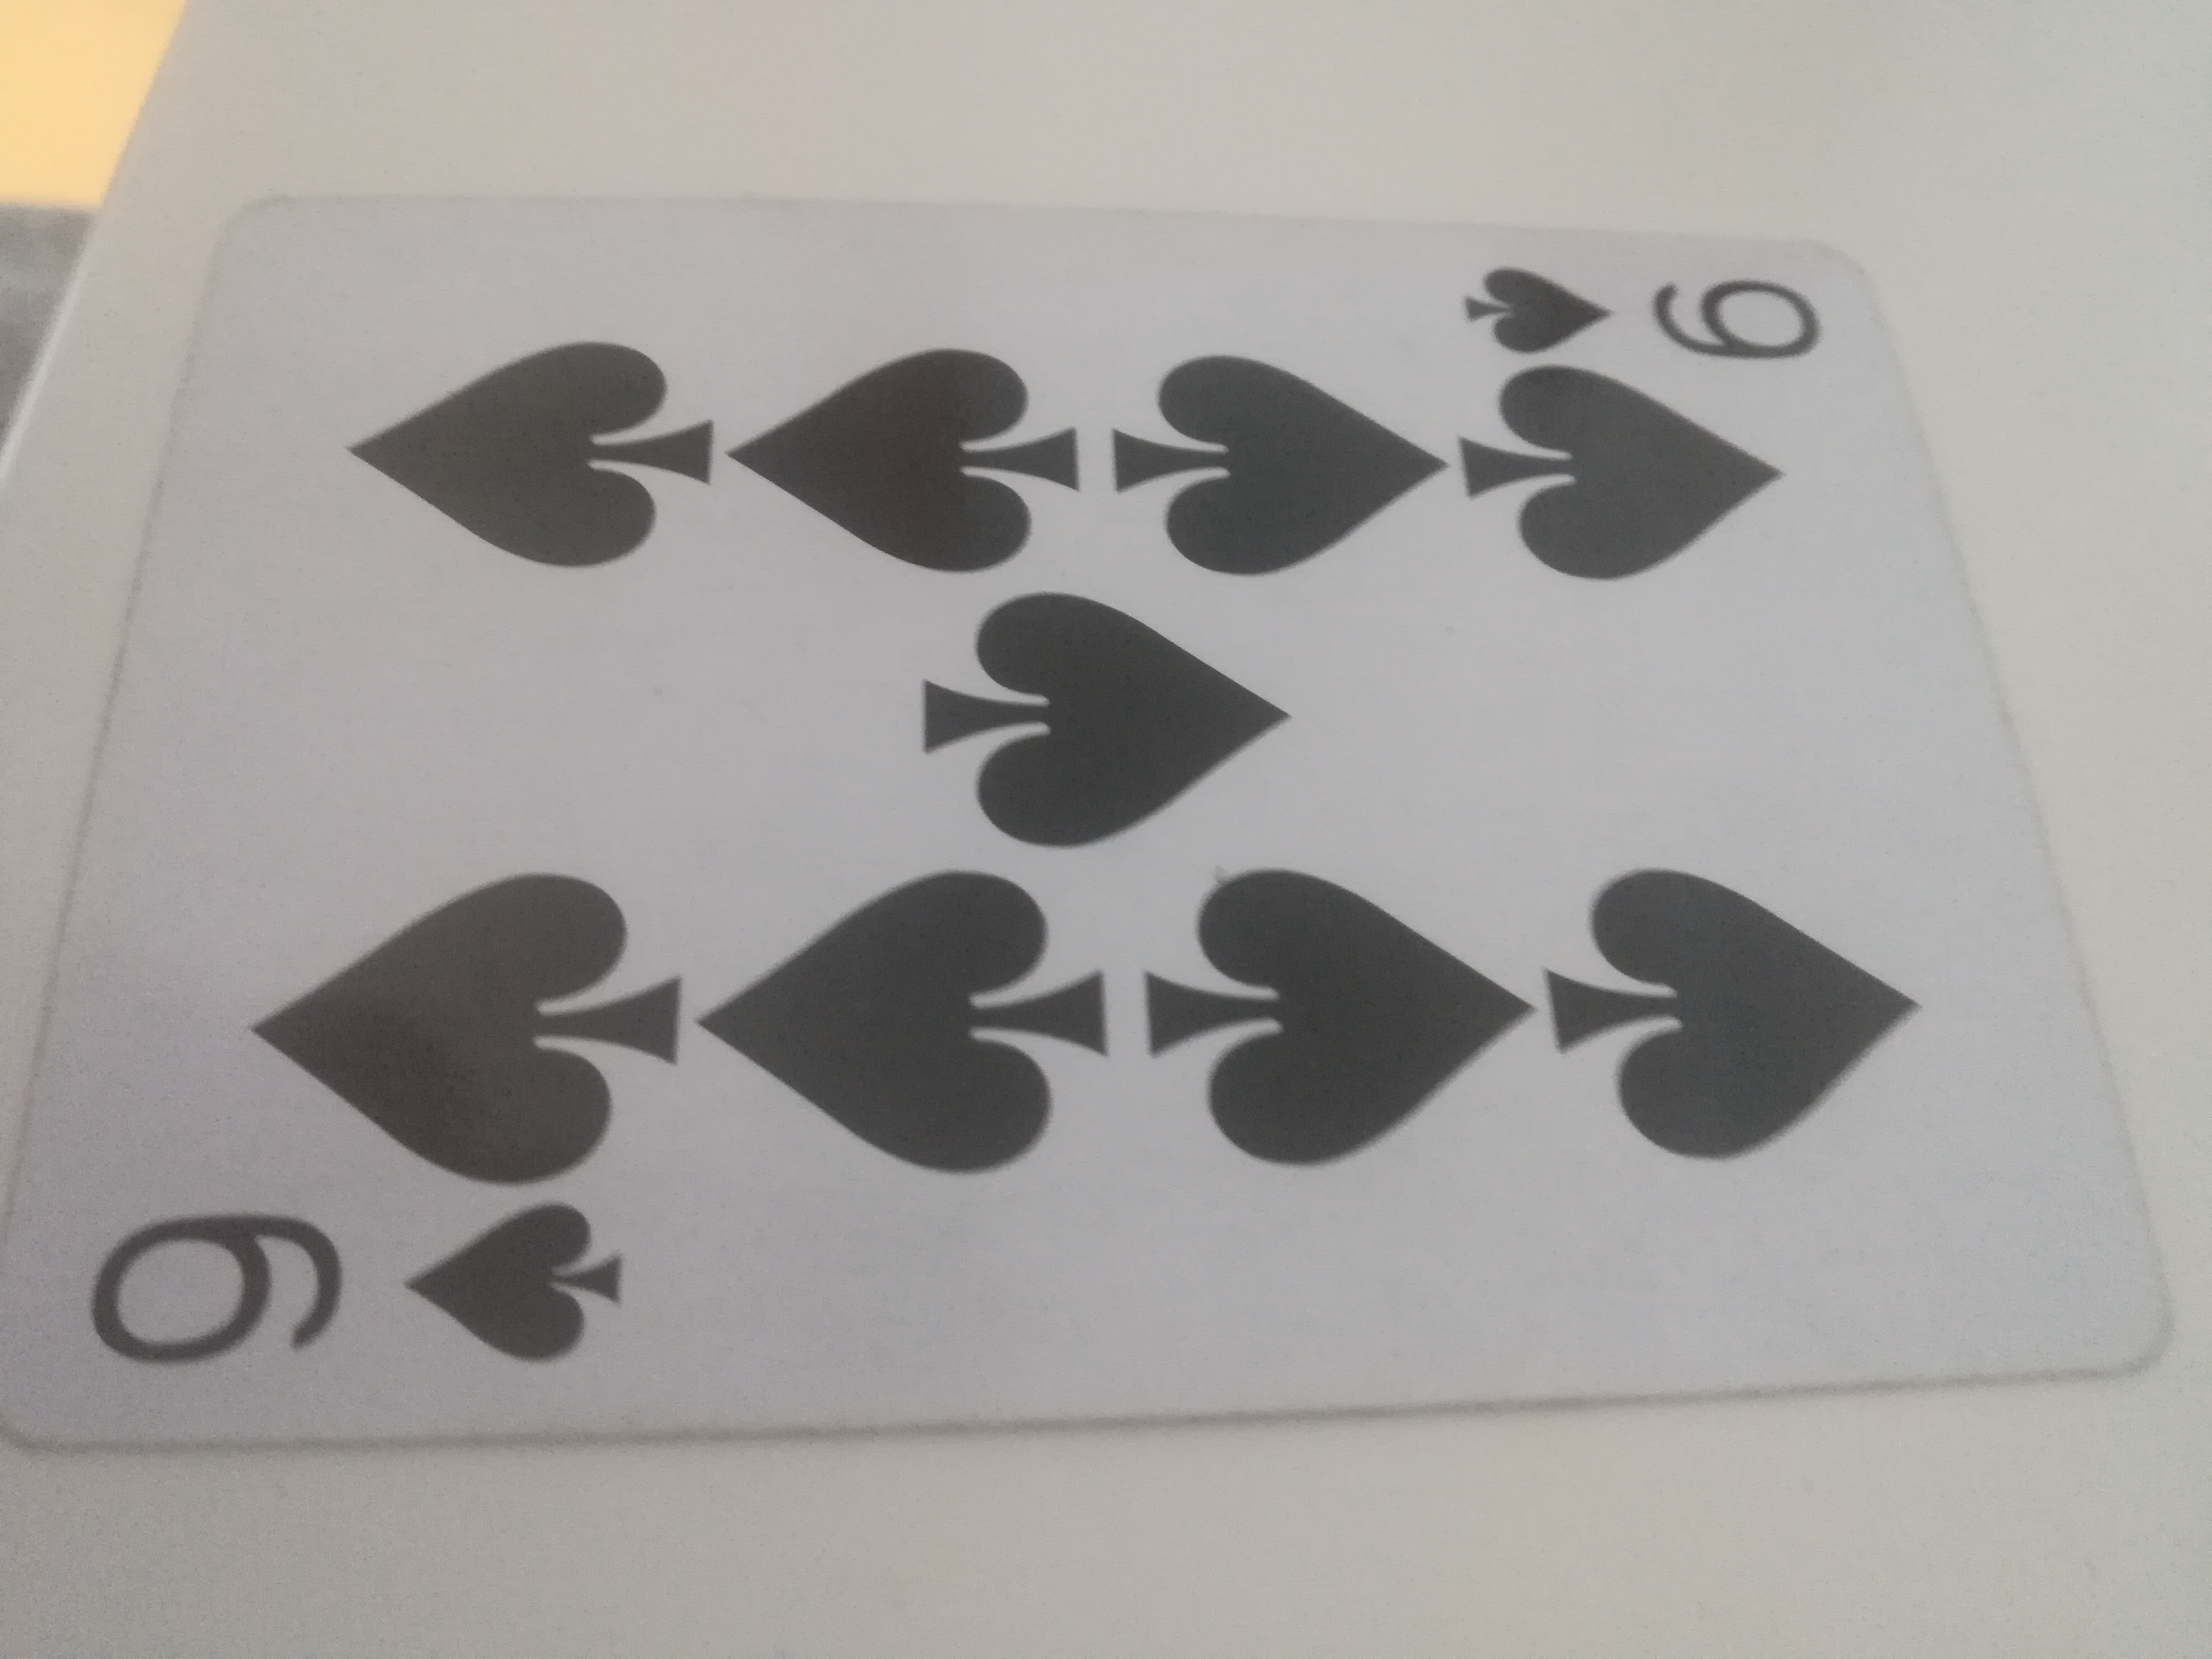9S: (12, 202, 2195, 1460)
